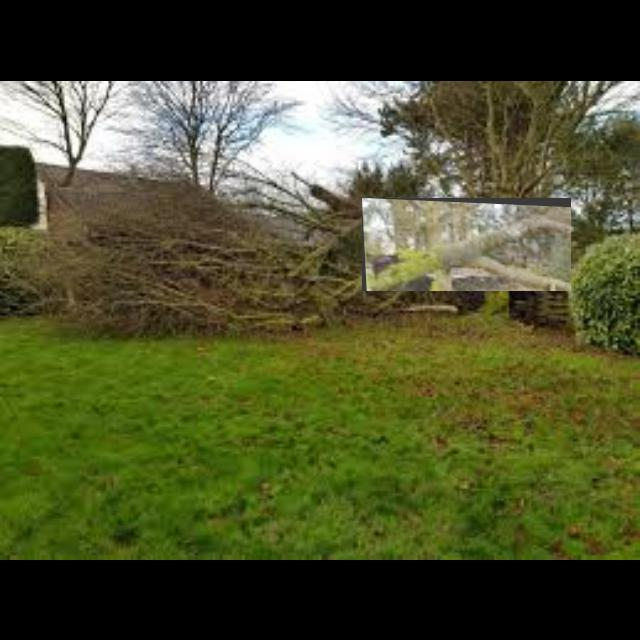Fallen Tree: (362, 198, 572, 292)
